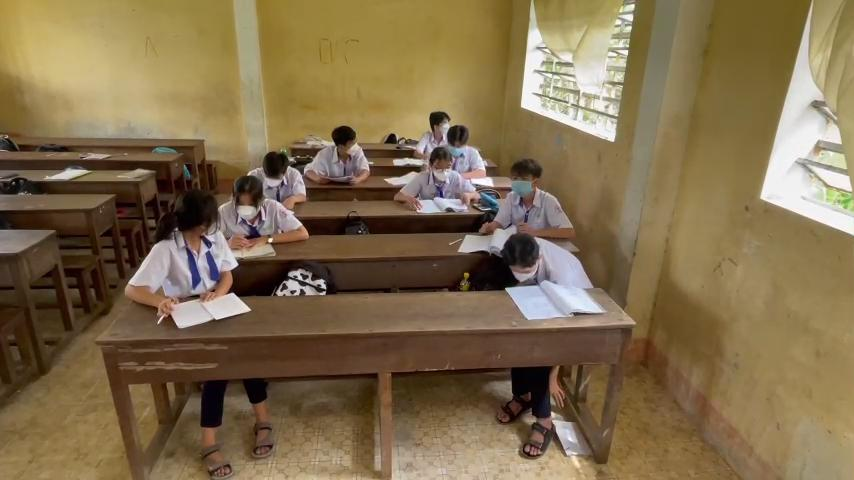Bend Over The Desk: (494, 225, 543, 282)
Look Around: (165, 185, 221, 240), (321, 118, 365, 163), (421, 102, 451, 143)
